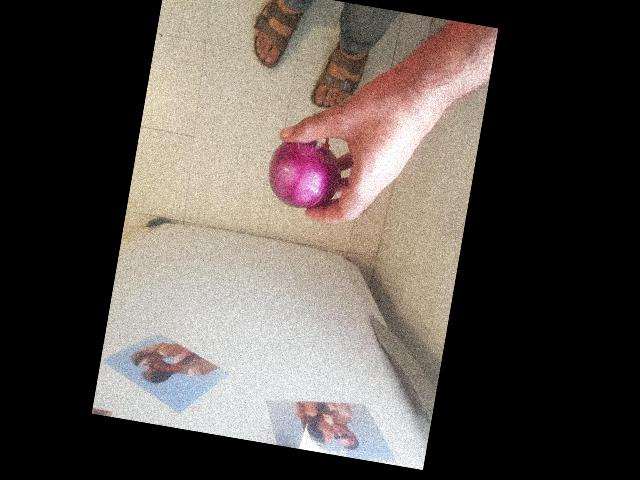onion: (261, 131, 353, 216)
